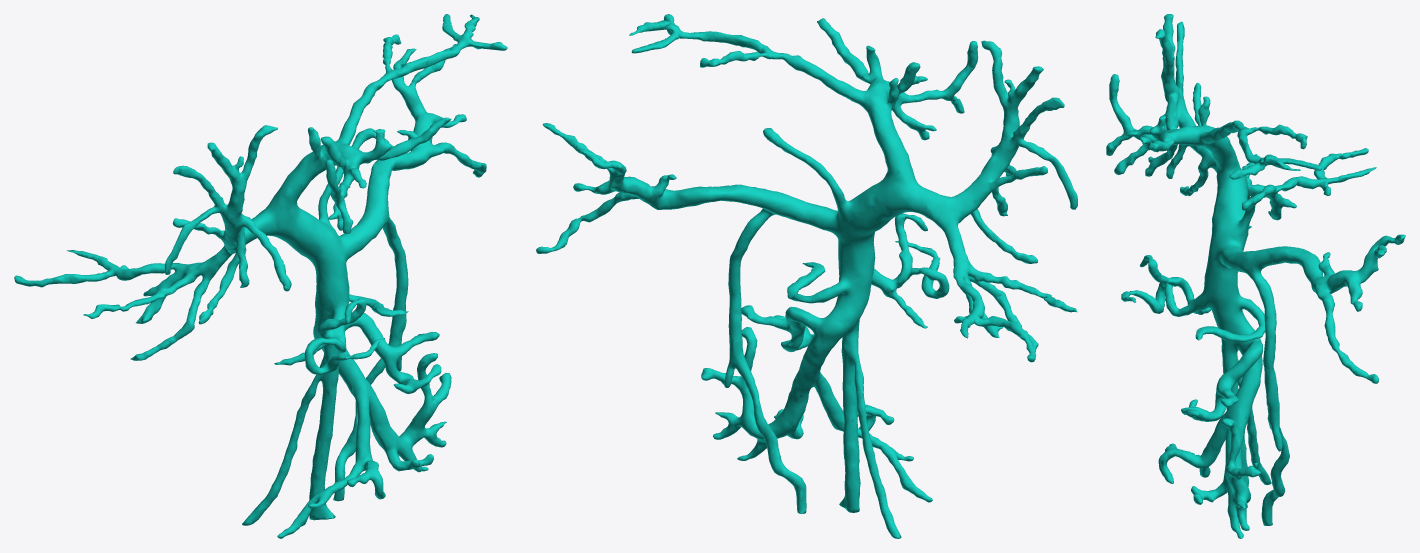
The picture shows the model from 3 angles, left to right: view 1: azimuth 30°, elevation 25°; view 2: azimuth 150°, elevation 25°; view 3: azimuth 270°, elevation 25°; orthographic projection. The views are drawn at different scales.
Visible parts, largest first — view 1: Polygonal_Model_3_Triangles_0; view 2: Polygonal_Model_3_Triangles_0; view 3: Polygonal_Model_3_Triangles_0.
Part boxes in pixels (x1,y1,x2,y2): Polygonal_Model_3_Triangles_0: [14, 14, 507, 538]; Polygonal_Model_3_Triangles_0: [536, 14, 1077, 538]; Polygonal_Model_3_Triangles_0: [1106, 14, 1405, 538].
Bounding box in the file's own units: 9.95 × 8.93 × 5.57.
